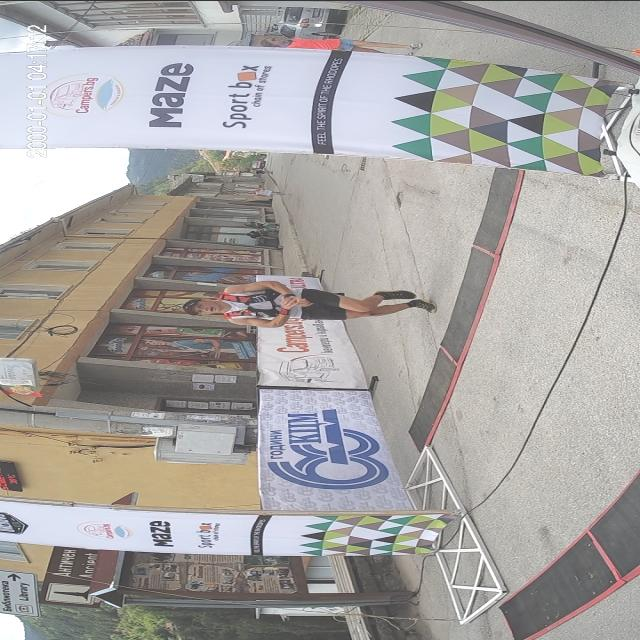runner: (180, 273, 440, 335), (246, 182, 292, 200)
